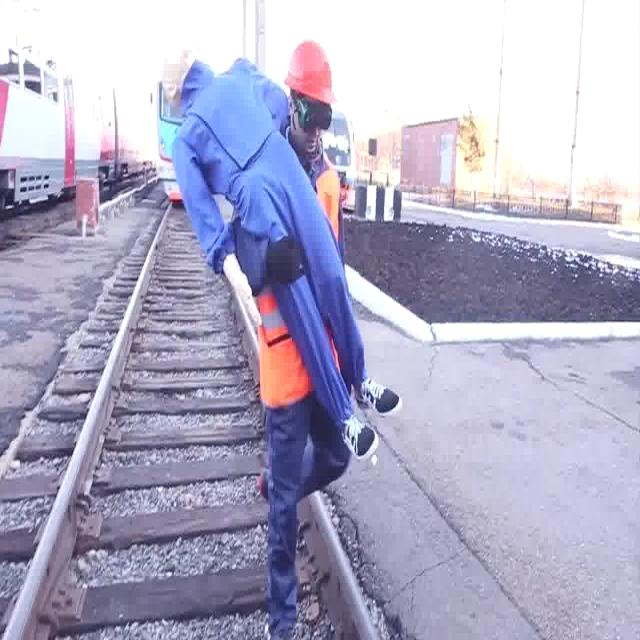boots: (202, 247, 270, 332), (340, 354, 410, 424), (328, 400, 386, 463)
gloves: (268, 236, 306, 284)
vest: (258, 158, 342, 411)
